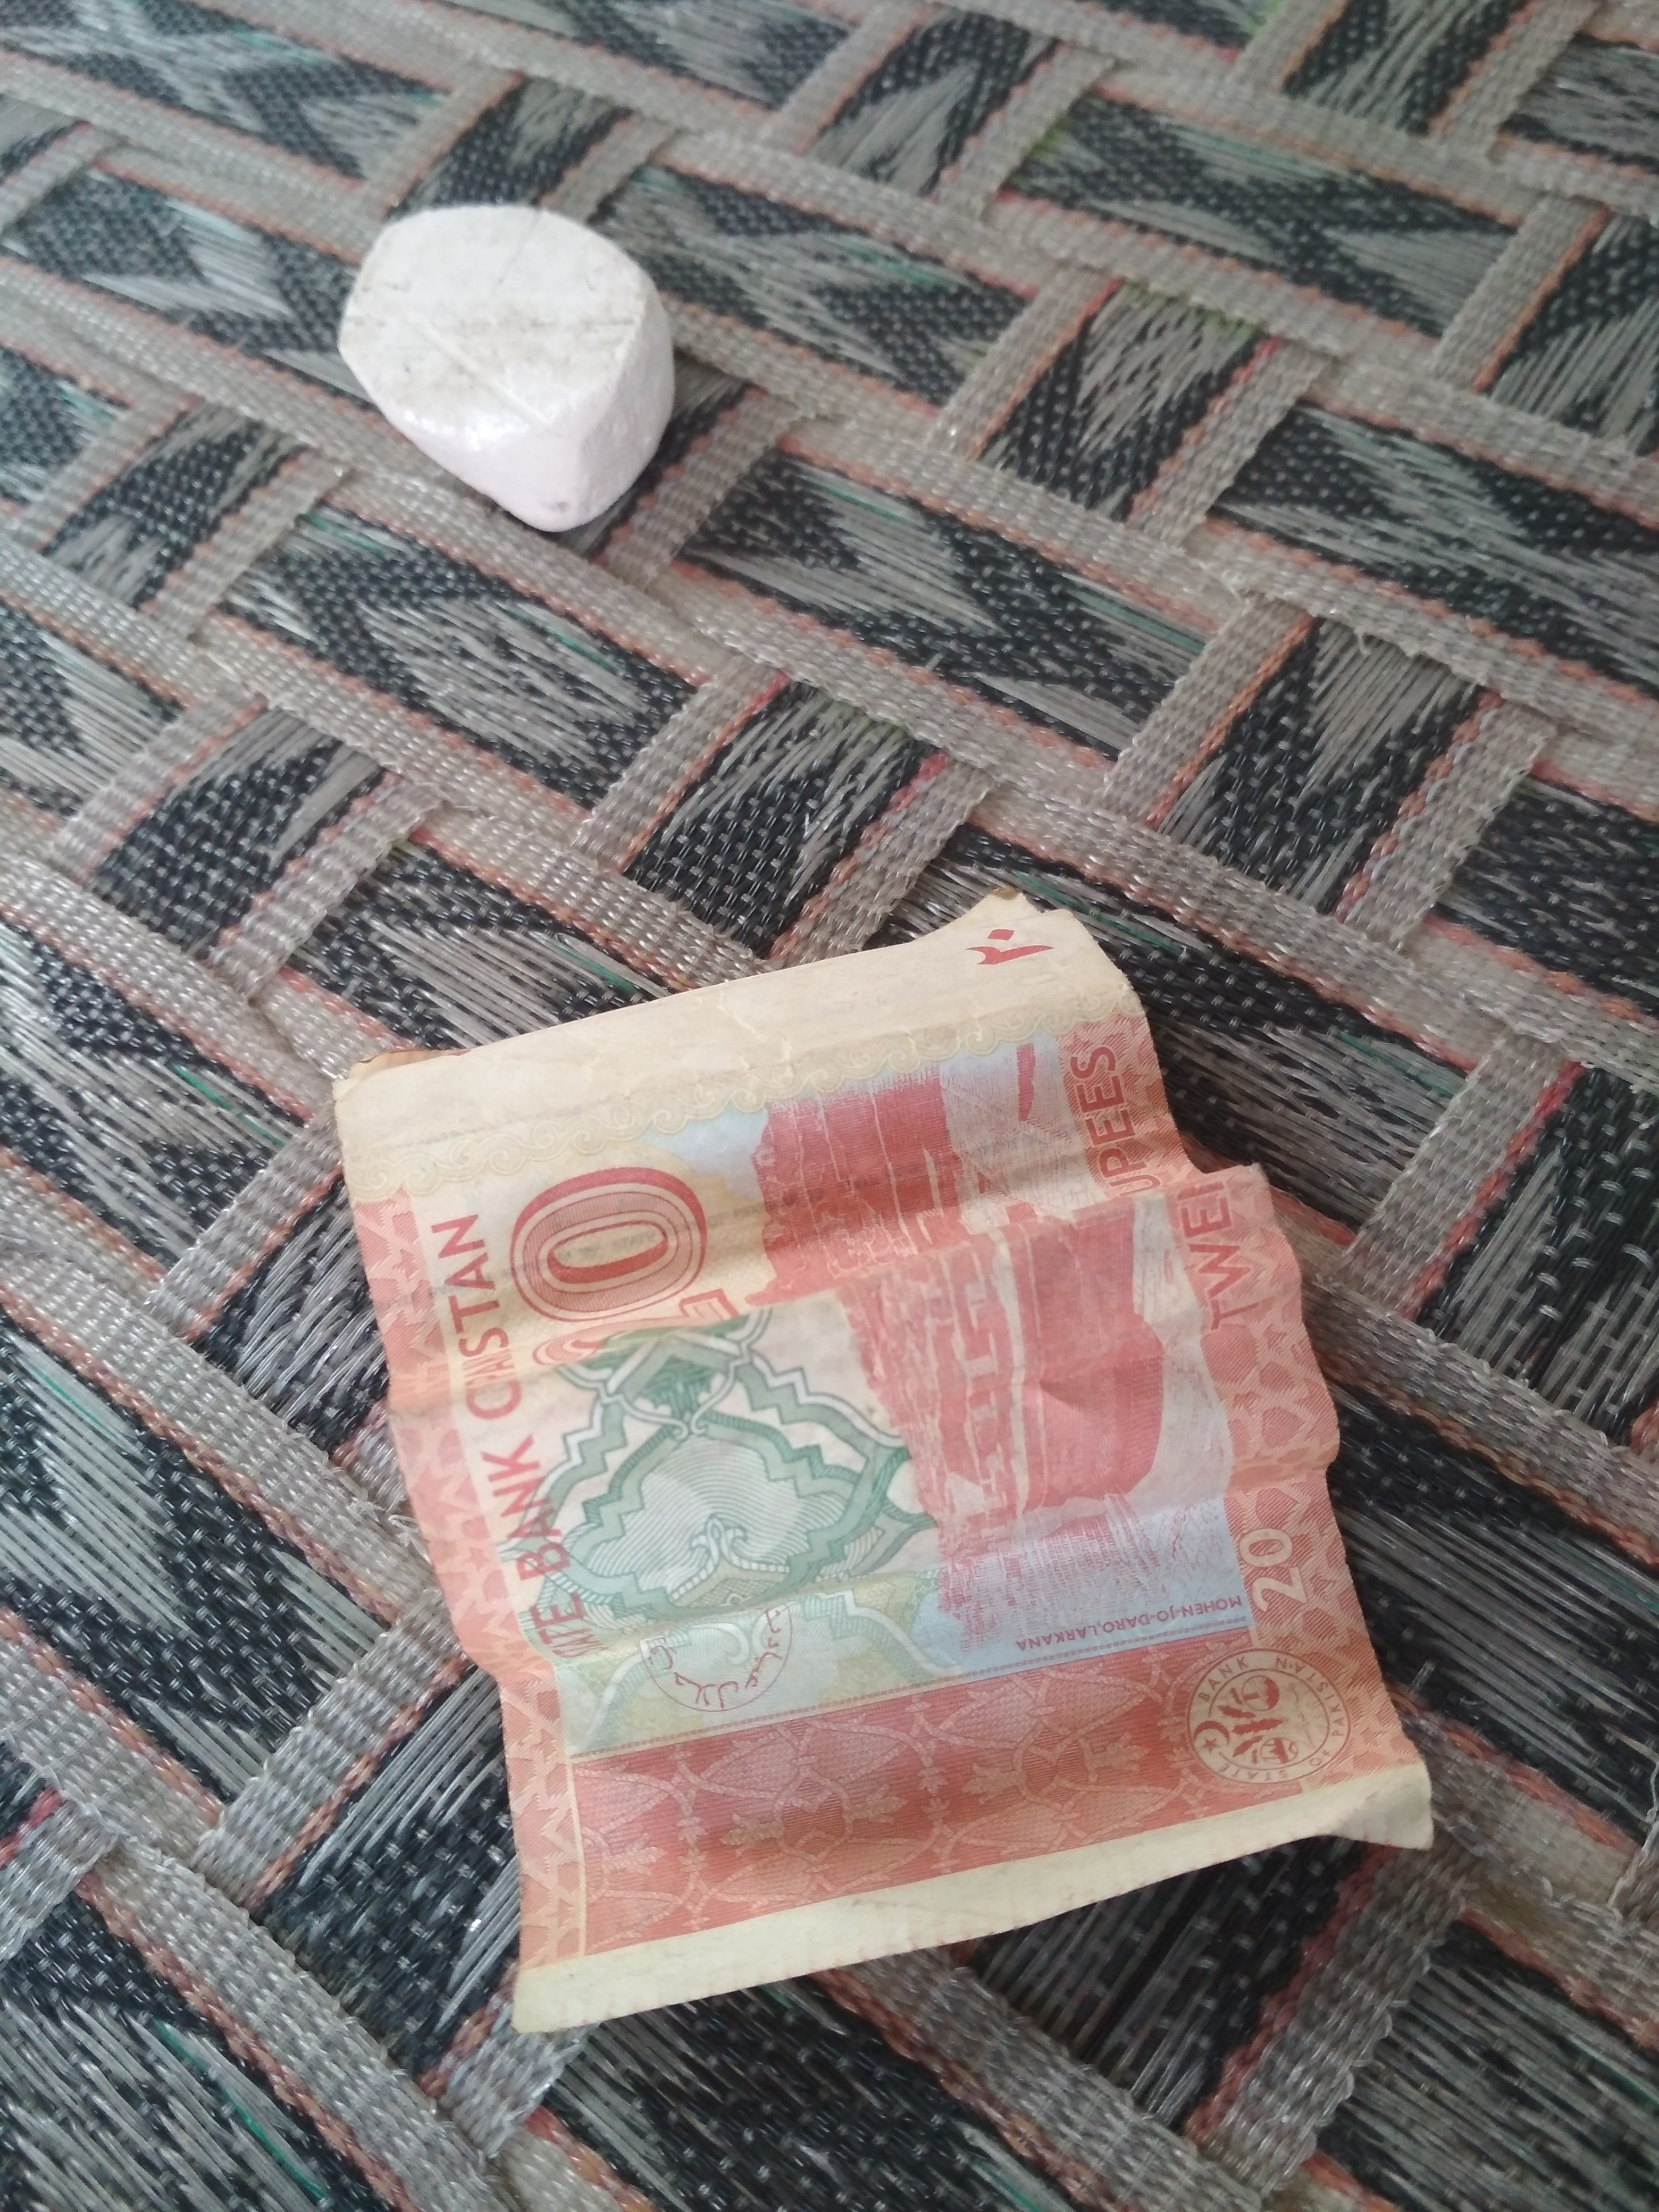20 rupee: (199, 805, 1422, 2118)
